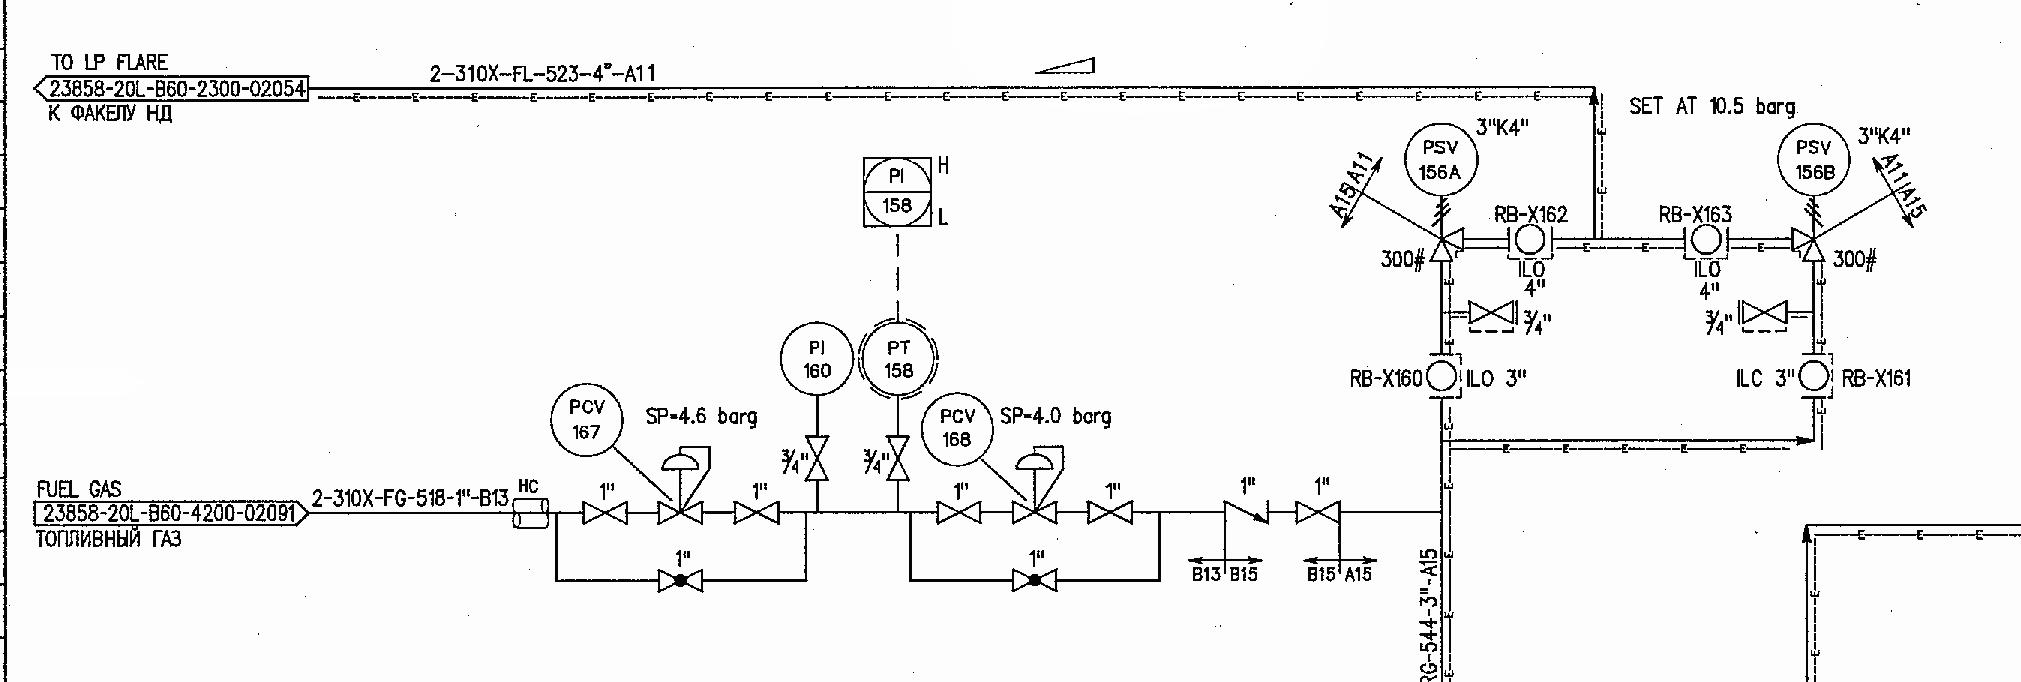ANGLE RELIEF VALVE: (1422, 199, 1473, 267)
DCS ACCESSIBLE: (860, 155, 938, 232)
DUPLEX RECEPTACLE: (504, 496, 556, 530)
FIELD INSTRUMENT: (773, 317, 858, 400), (855, 317, 942, 396), (1768, 120, 1857, 197), (1398, 121, 1484, 199), (919, 391, 996, 468), (546, 382, 625, 456), (1795, 353, 1835, 400), (1426, 352, 1463, 398), (1511, 222, 1553, 260), (1686, 222, 1726, 257)
GATE VALVE: (728, 492, 788, 530), (1079, 495, 1139, 530), (931, 494, 987, 530), (1463, 297, 1518, 333), (576, 500, 635, 531), (1741, 295, 1790, 331), (1288, 498, 1346, 527), (883, 431, 911, 486), (804, 428, 831, 483)
GLOBE VALVE: (652, 566, 706, 598), (1007, 565, 1062, 594)
SELF ACTING VALVE: (1003, 440, 1072, 529), (648, 440, 714, 526)
